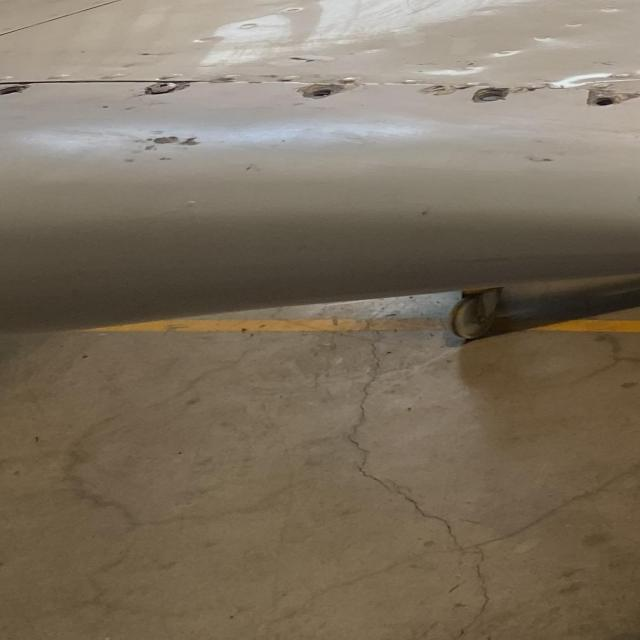Missing-head: (469, 89, 508, 104), (302, 86, 342, 100), (591, 93, 622, 111), (0, 85, 24, 96)
Paint-off: (140, 135, 199, 151), (157, 155, 183, 165)
